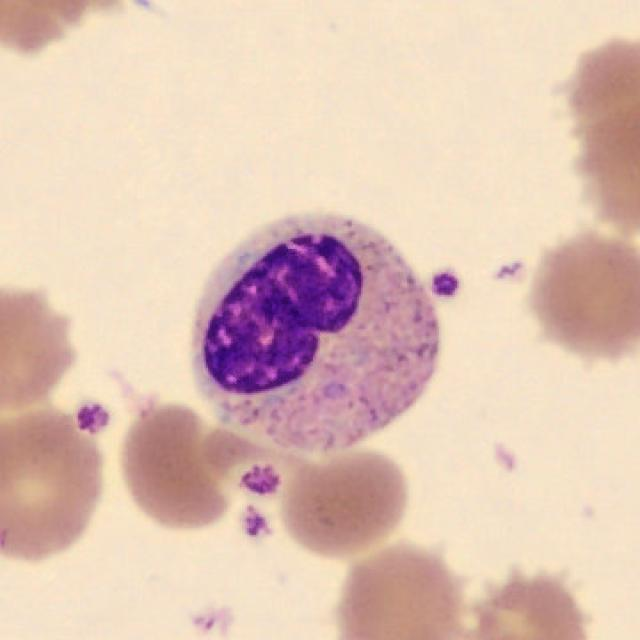Bastonete: (188, 213, 441, 457)
